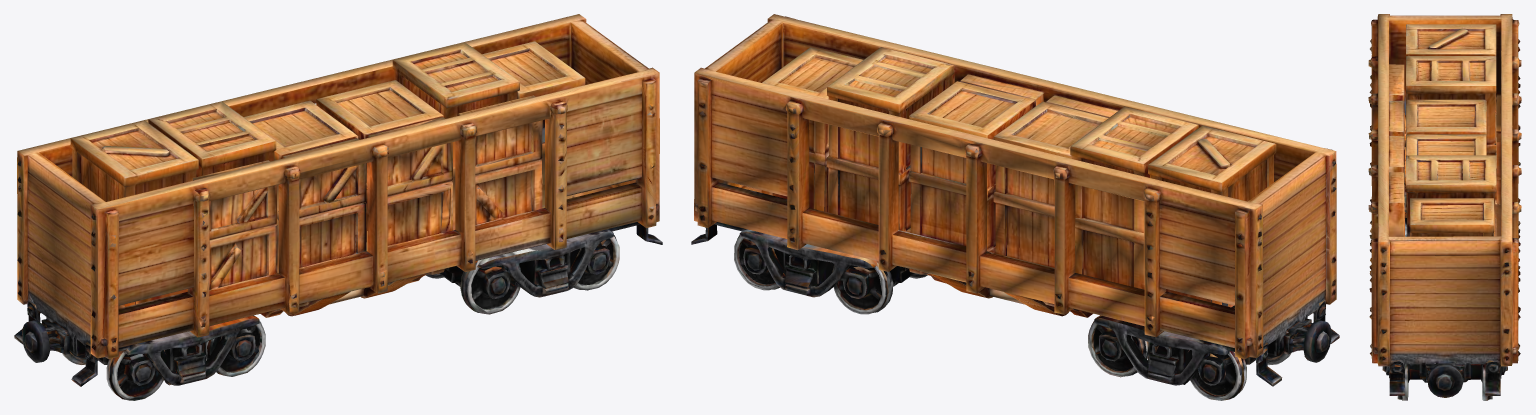
Rendered from freight.glb.
3 renders of one model, left to right at view 1: azimuth 30°, elevation 25°; view 2: azimuth 150°, elevation 25°; view 3: azimuth 270°, elevation 25°, orthographic. The views are drawn at different scales.
Parts seen in each view (by area): view 1: freight; view 2: freight; view 3: freight.
Part boxes in pixels (left/top/right/bottom): freight: left=14, top=14, right=662, bottom=400; freight: left=691, top=14, right=1339, bottom=400; freight: left=1368, top=14, right=1521, bottom=400.
Size of the model in its own units: 2.89 by 1 by 0.7439.
1 material, 1 textured.
